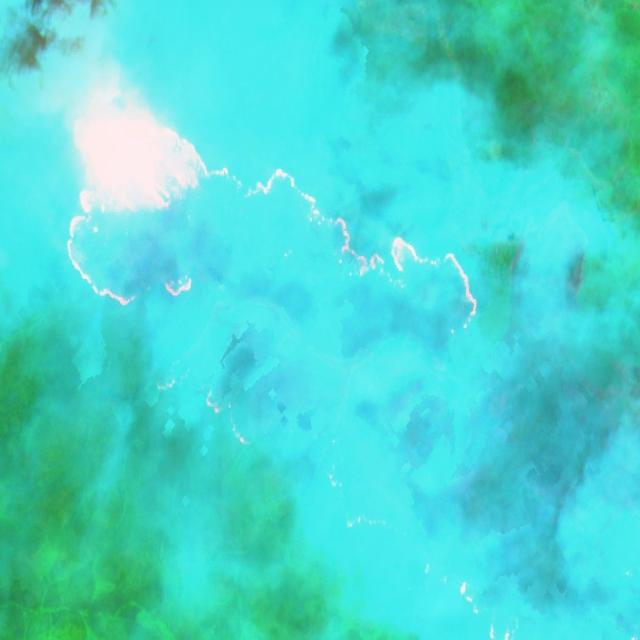fire: (65, 78, 483, 368)
